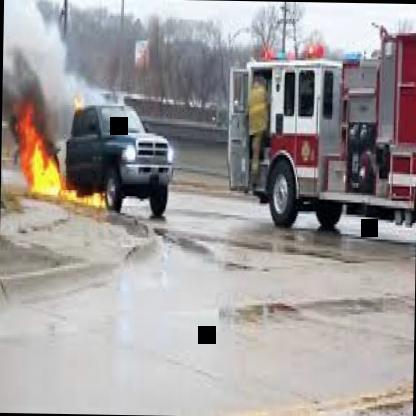fire: (0, 92, 118, 216)
